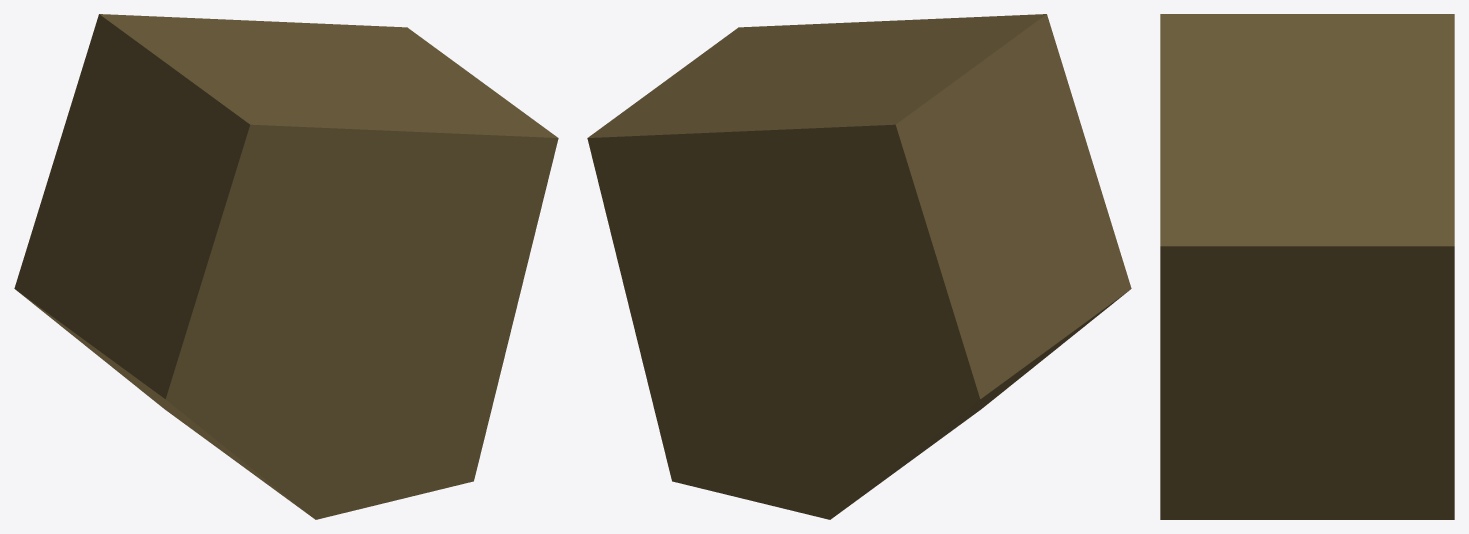
File: chart_obstacle_090.obj
3 renders of one model, left to right at view 1: azimuth 30°, elevation 25°; view 2: azimuth 150°, elevation 25°; view 3: azimuth 270°, elevation 25°, orthographic. The views are drawn at different scales.
Parts seen in each view (by area): view 1: chart_obstacle_090; view 2: chart_obstacle_090; view 3: chart_obstacle_090.
Boxes of the visible parts, bbox=[...] form: chart_obstacle_090: bbox=[14, 14, 558, 519]; chart_obstacle_090: bbox=[587, 14, 1131, 519]; chart_obstacle_090: bbox=[1160, 14, 1454, 519].
Bounding box in the file's own units: 12 × 12 × 8.
